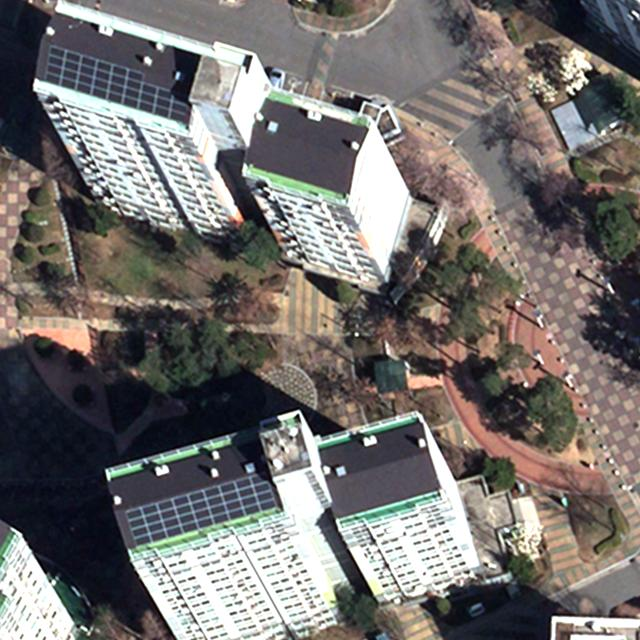solarpanel: (41, 41, 193, 131), (124, 467, 284, 550)
